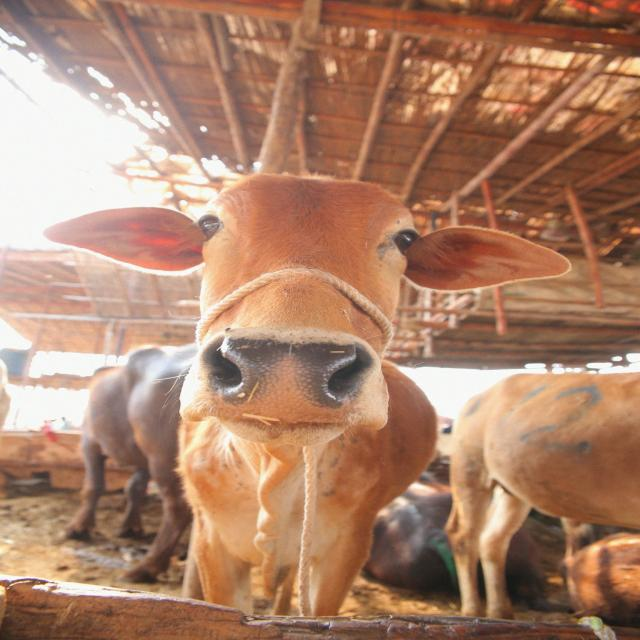muzzles: (193, 328, 381, 432)
